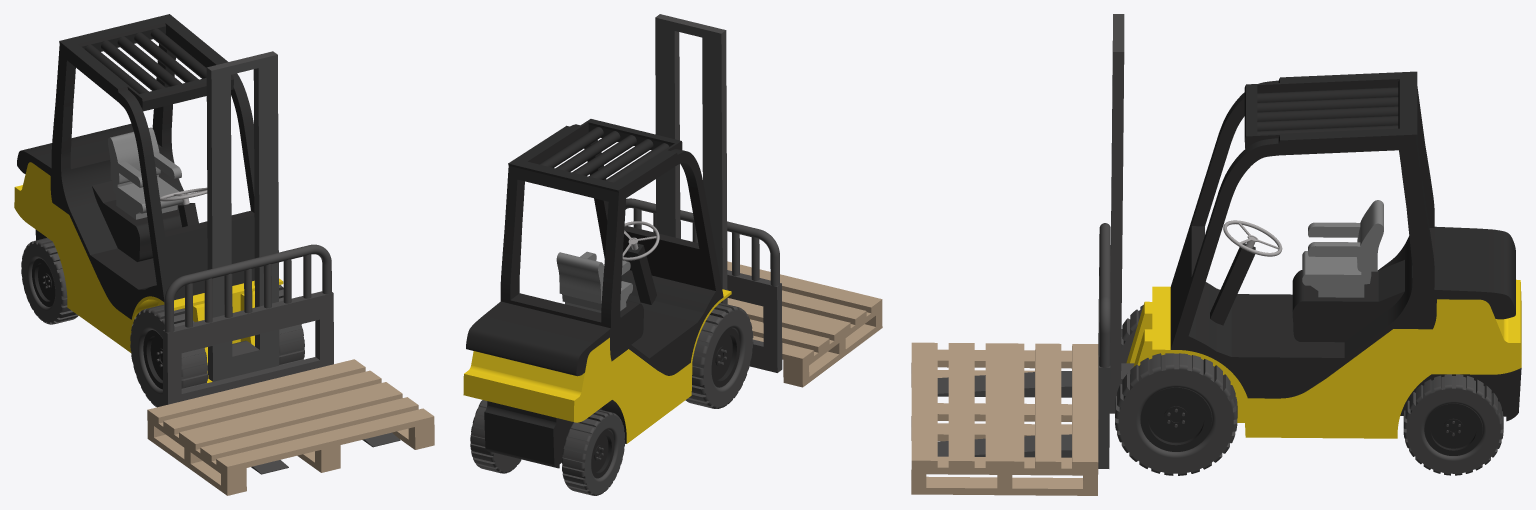
File: Forklift.glb
3 renders of one model, left to right at view 1: azimuth 30°, elevation 25°; view 2: azimuth 150°, elevation 25°; view 3: azimuth 270°, elevation 25°, orthographic. The views are drawn at different scales.
Visible parts, largest first — view 1: Object_24, Object_2, Object_3, Object_14, Object_11, Object_25, Object_20, Object_8, Object_9, Object_18, Object_19, Object_17; view 2: Object_2, Object_3, Object_25, Object_14, Object_24, Object_11, Object_20, Object_18, Object_5, Object_8, Object_15, Object_9 (+3 smaller); view 3: Object_2, Object_24, Object_25, Object_3, Object_11, Object_18, Object_20, Object_14, Object_13, Object_17, Object_9, Object_4 (+2 smaller).
Part boxes in pixels (x1=…): Object_24: x1=147, y1=359, x2=434, y2=495; Object_2: x1=35, y1=14, x2=254, y2=300; Object_3: x1=17, y1=41, x2=182, y2=389; Object_14: x1=130, y1=51, x2=279, y2=381; Object_11: x1=21, y1=238, x2=400, y2=474; Object_25: x1=14, y1=162, x2=283, y2=382; Object_20: x1=108, y1=127, x2=182, y2=219; Object_8: x1=164, y1=254, x2=311, y2=327; Object_9: x1=42, y1=245, x2=327, y2=331; Object_18: x1=130, y1=312, x2=304, y2=406; Object_19: x1=181, y1=347, x2=304, y2=376; Object_17: x1=138, y1=327, x2=162, y2=394; Object_2: x1=484, y1=119, x2=715, y2=468; Object_3: x1=466, y1=151, x2=740, y2=478; Object_25: x1=463, y1=289, x2=731, y2=443; Object_14: x1=655, y1=14, x2=739, y2=390; Object_24: x1=727, y1=261, x2=882, y2=387; Object_11: x1=502, y1=256, x2=782, y2=493; Object_20: x1=556, y1=251, x2=632, y2=312; Object_18: x1=703, y1=309, x2=753, y2=406; Object_5: x1=470, y1=400, x2=622, y2=480; Object_8: x1=633, y1=208, x2=779, y2=280; Object_15: x1=480, y1=302, x2=739, y2=473; Object_9: x1=596, y1=199, x2=771, y2=459; Object_2: x1=1170, y1=71, x2=1521, y2=437; Object_24: x1=911, y1=342, x2=1098, y2=495; Object_25: x1=1126, y1=279, x2=1521, y2=438; Object_3: x1=1140, y1=86, x2=1515, y2=455; Object_11: x1=937, y1=242, x2=1500, y2=474; Object_18: x1=1115, y1=305, x2=1233, y2=473; Object_20: x1=1302, y1=200, x2=1383, y2=297; Object_14: x1=1110, y1=14, x2=1237, y2=469; Object_13: x1=1140, y1=353, x2=1235, y2=462; Object_17: x1=1136, y1=385, x2=1216, y2=457; Object_9: x1=1099, y1=225, x2=1460, y2=436; Object_4: x1=1403, y1=374, x2=1473, y2=428.
Size of the model in its own units: 0.0748 by 0.1216 by 0.1635.
6 materials, 1 textured.
